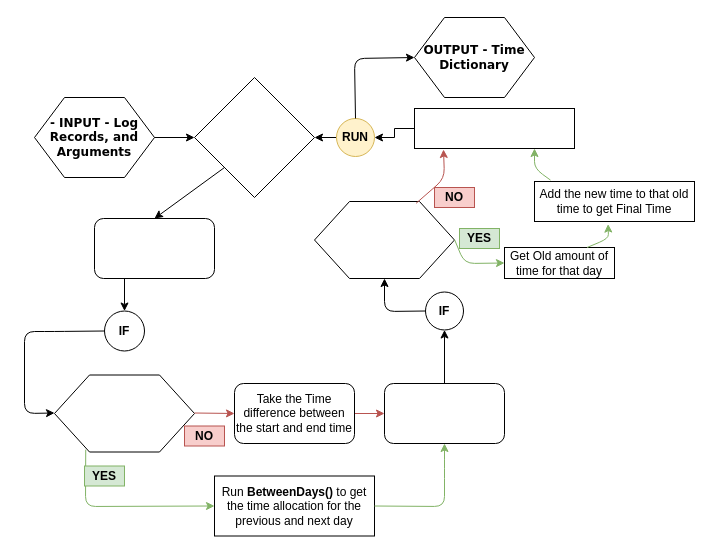
Image size: 712x554. Some labels were removed from this diagram. Each missing label, with the box of its shape:
Add time to TimeDictionary: (414, 108, 574, 148)
DateObject in TimeDictionary: (314, 200, 454, 278)
For Each Line in Login Records: (194, 76, 314, 198)
Grab a Day-Stamp for each time allocation: (384, 382, 504, 444)
Grab the Day for both the starting time and ending time: (94, 218, 214, 278)
Stardate_Day != Enddate_Day: (54, 374, 194, 452)
